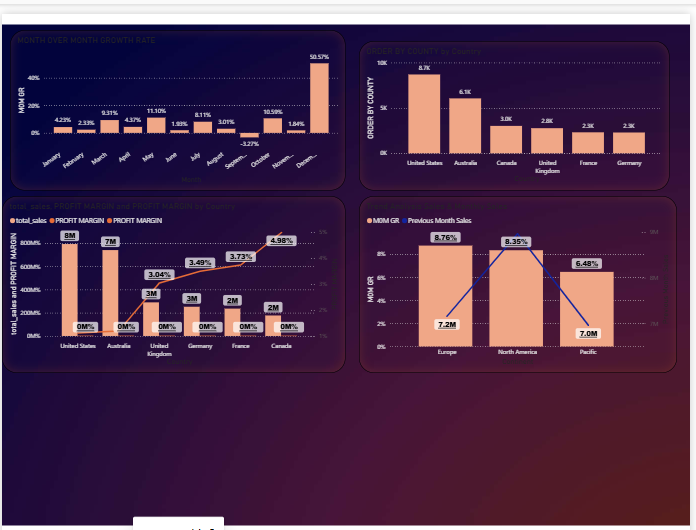

What the dashboard file says about the page in this screenshot:
{"tool":"powerbi","page":{"name":"geograpchic.2","canvas":[1375,1050],"ordinal":2},"visuals":[{"type":"columnChart","title":"MONTH OVER MONTH GROWTH RATE","fields":{"Y":["Append1 Sales Data.M0M GR"],"Category":["Calendar Lookup.Date.Variation.Date Hierarchy.Month"]},"box":[15.7,31.4,671.4,321.4],"z":0},{"type":"lineClusteredColumnComboChart","fields":{"Category":["Territory Lookup (1).Continent Hierarchy.Country"],"Y":["Append1 Sales Data.total_sales","Append1 Sales Data.MARGIN"],"Y2":["Append1 Sales Data.MARGIN"]},"box":[0,364.3,687.1,354.3],"z":1000},{"type":"columnChart","fields":{"Y":["Append1 Sales Data.ORDER BY COUNTY"],"Category":["Territory Lookup (1).Continent Hierarchy.Country"]},"box":[714.3,54.3,621.4,298.6],"z":2000},{"type":"lineClusteredColumnComboChart","title":"Trend Analysis Sales & Monthly Sales","fields":{"Category":["Territory Lookup (1).Continent"],"Y":["Append1 Sales Data.M0M GR"],"Y2":["Append1 Sales Data.Previous Month Sales"]},"box":[714.3,364.3,635.7,354.3],"z":3000}]}

Visuals, with their boxes in screenshot pixels (x1, y1, x2, y2), scaled from the page's 1375x1050 canvas onto the 696x530 screenshot:
"MONTH OVER MONTH GROWTH RATE" columnChart: {"left": 8, "top": 16, "right": 348, "bottom": 178}
lineClusteredColumnComboChart - Territory Lookup (1).Continent Hierarchy.Country x Append1 Sales Data.total_sales: {"left": 0, "top": 184, "right": 348, "bottom": 363}
columnChart - Append1 Sales Data.ORDER BY COUNTY x Territory Lookup (1).Continent Hierarchy.Country: {"left": 362, "top": 27, "right": 676, "bottom": 178}
"Trend Analysis Sales & Monthly Sales" lineClusteredColumnComboChart: {"left": 362, "top": 184, "right": 683, "bottom": 363}
